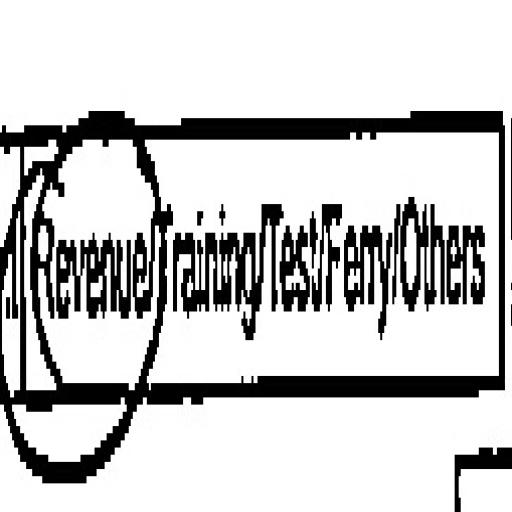check: (3, 41, 153, 483)
